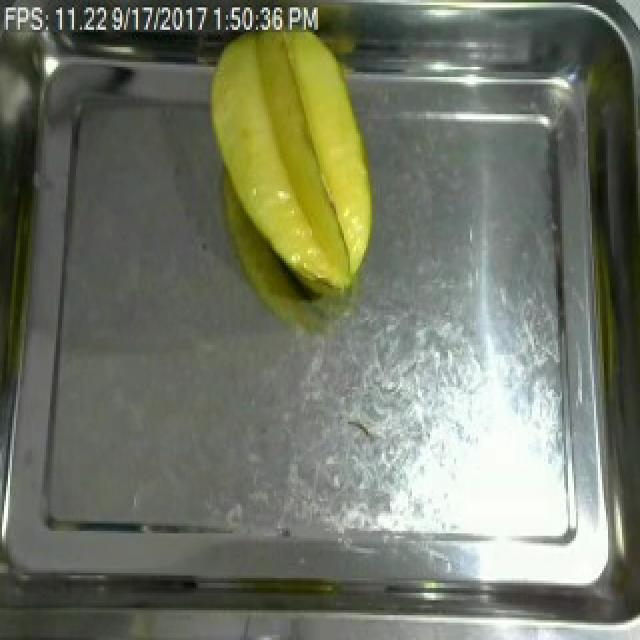fruit: (196, 17, 386, 310)
